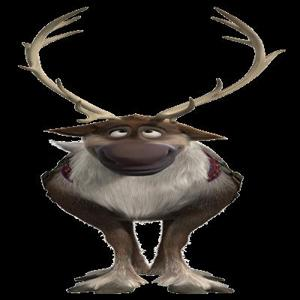sven: (23, 6, 269, 296)
